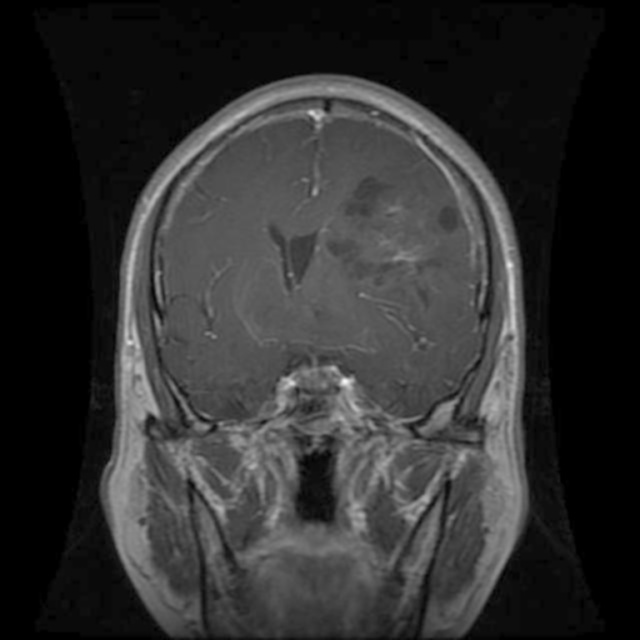pituitary tumor: (377, 200, 432, 272)
